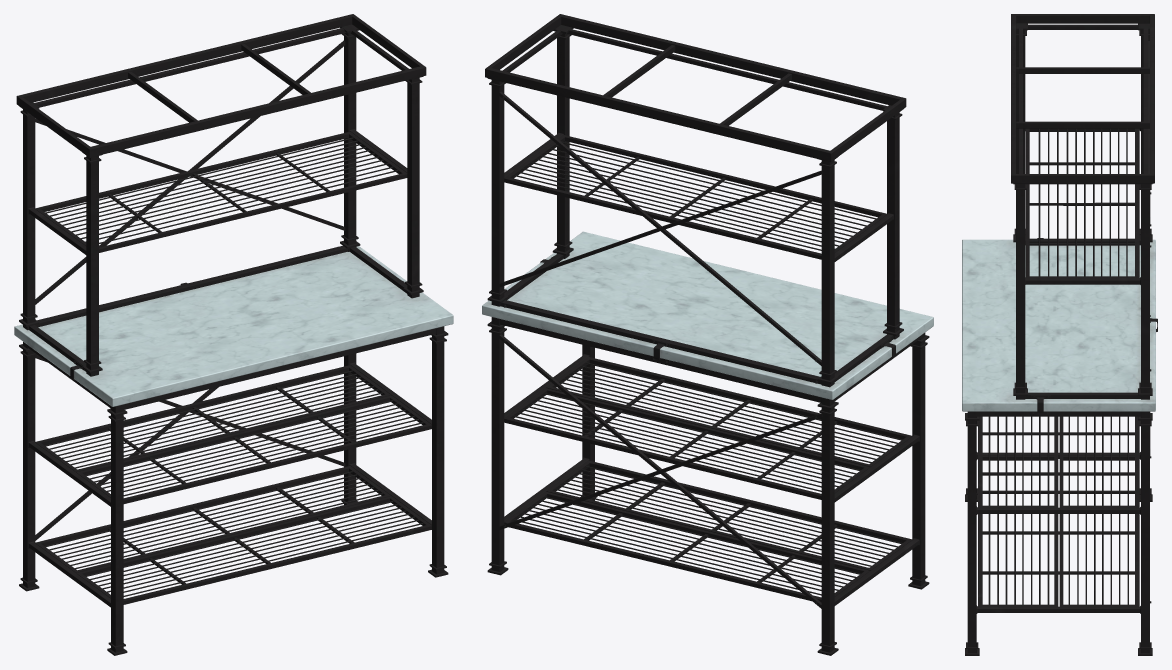
The model's file is cabinet_B07B78G1D1.glb.
3 renders of one model, left to right at view 1: azimuth 30°, elevation 25°; view 2: azimuth 150°, elevation 25°; view 3: azimuth 270°, elevation 25°, orthographic. The views are drawn at different scales.
Visible parts, largest first — view 1: RootNode; view 2: RootNode; view 3: RootNode.
Boxes of the visible parts, x1,y1,x2,y2 form: RootNode: (14, 14, 453, 655); RootNode: (482, 14, 933, 655); RootNode: (962, 14, 1157, 655).
Bounding box in the file's own units: 1.21 × 1.66 × 0.6096.
Materials: 1 (1 with a texture image).
